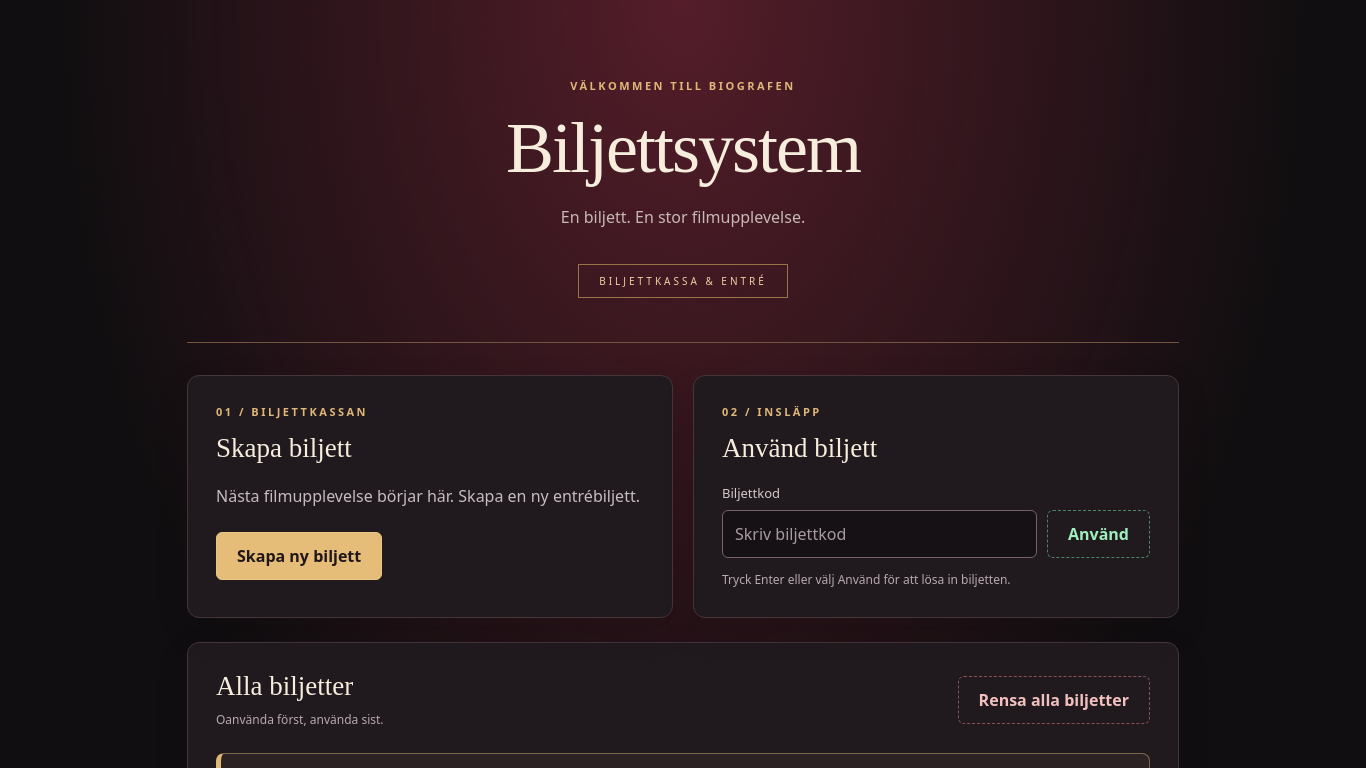
Ticket system › should use the selected ticket directly from its card
Type "OTHER1" into the field labelled "Biljettkod" at x=880, y=534, box [722,510,1037,558]
(page scrolled)
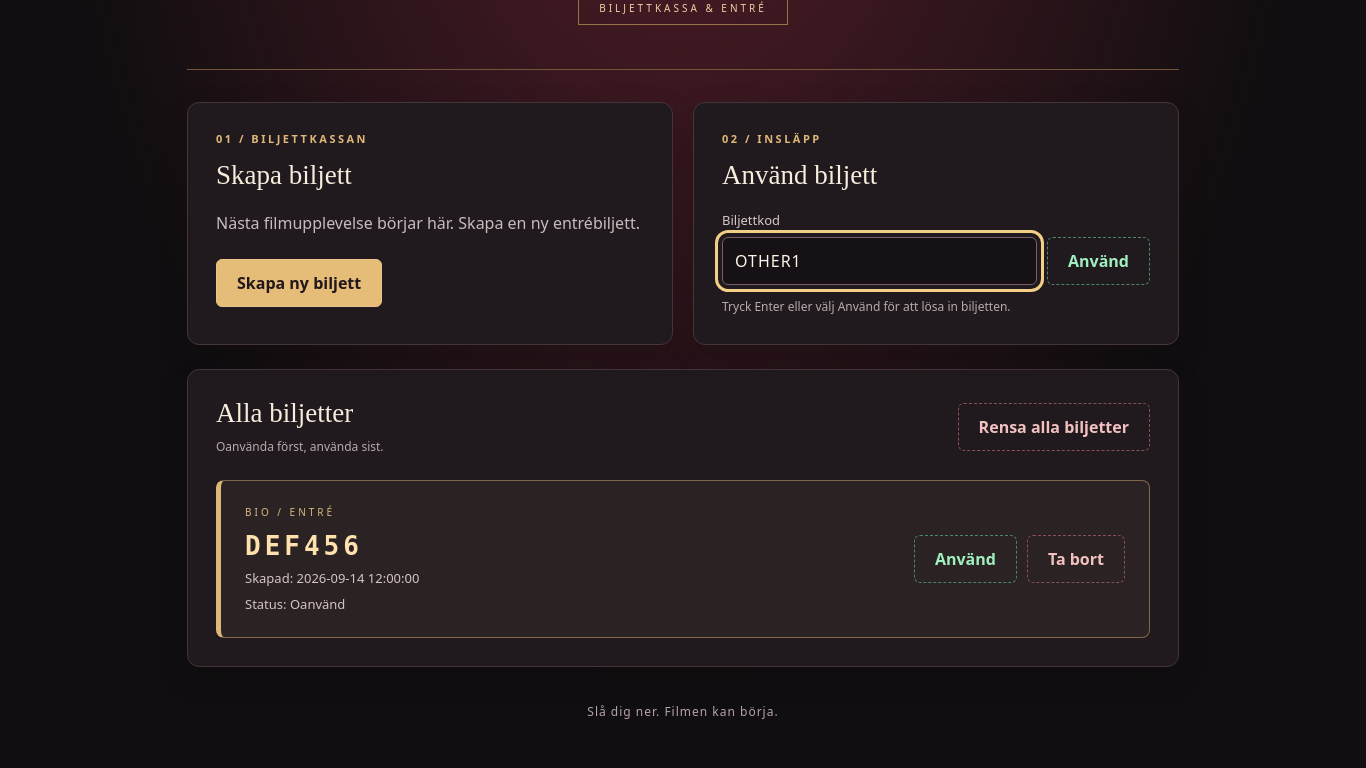
Click the button "Använd" in the row of "2026-09-14 12:00:00" at x=966, y=559, box [914,535,1017,583]
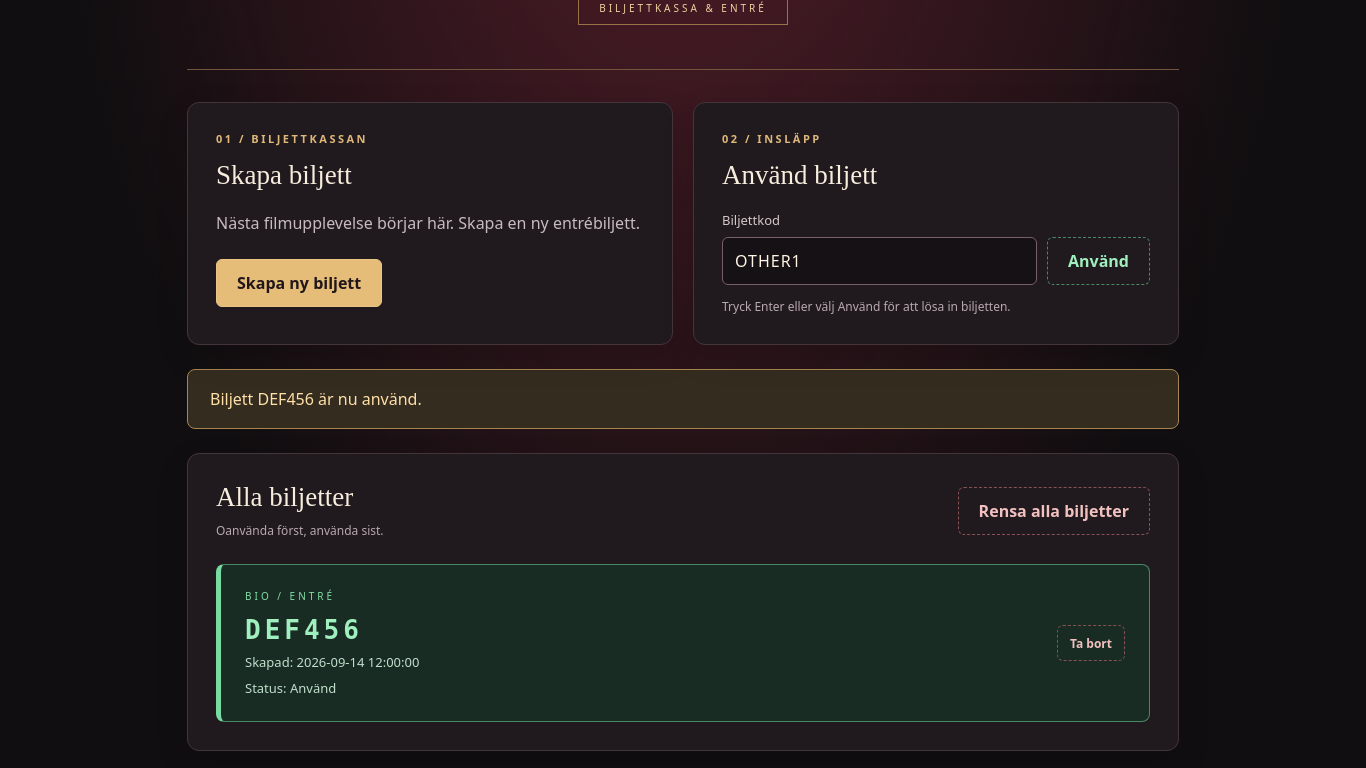
Check: the button "Ta bort" is shown, box [1057,625,1125,661]
Check: the text "Status: Använd" is shown, box [245,679,336,697]
